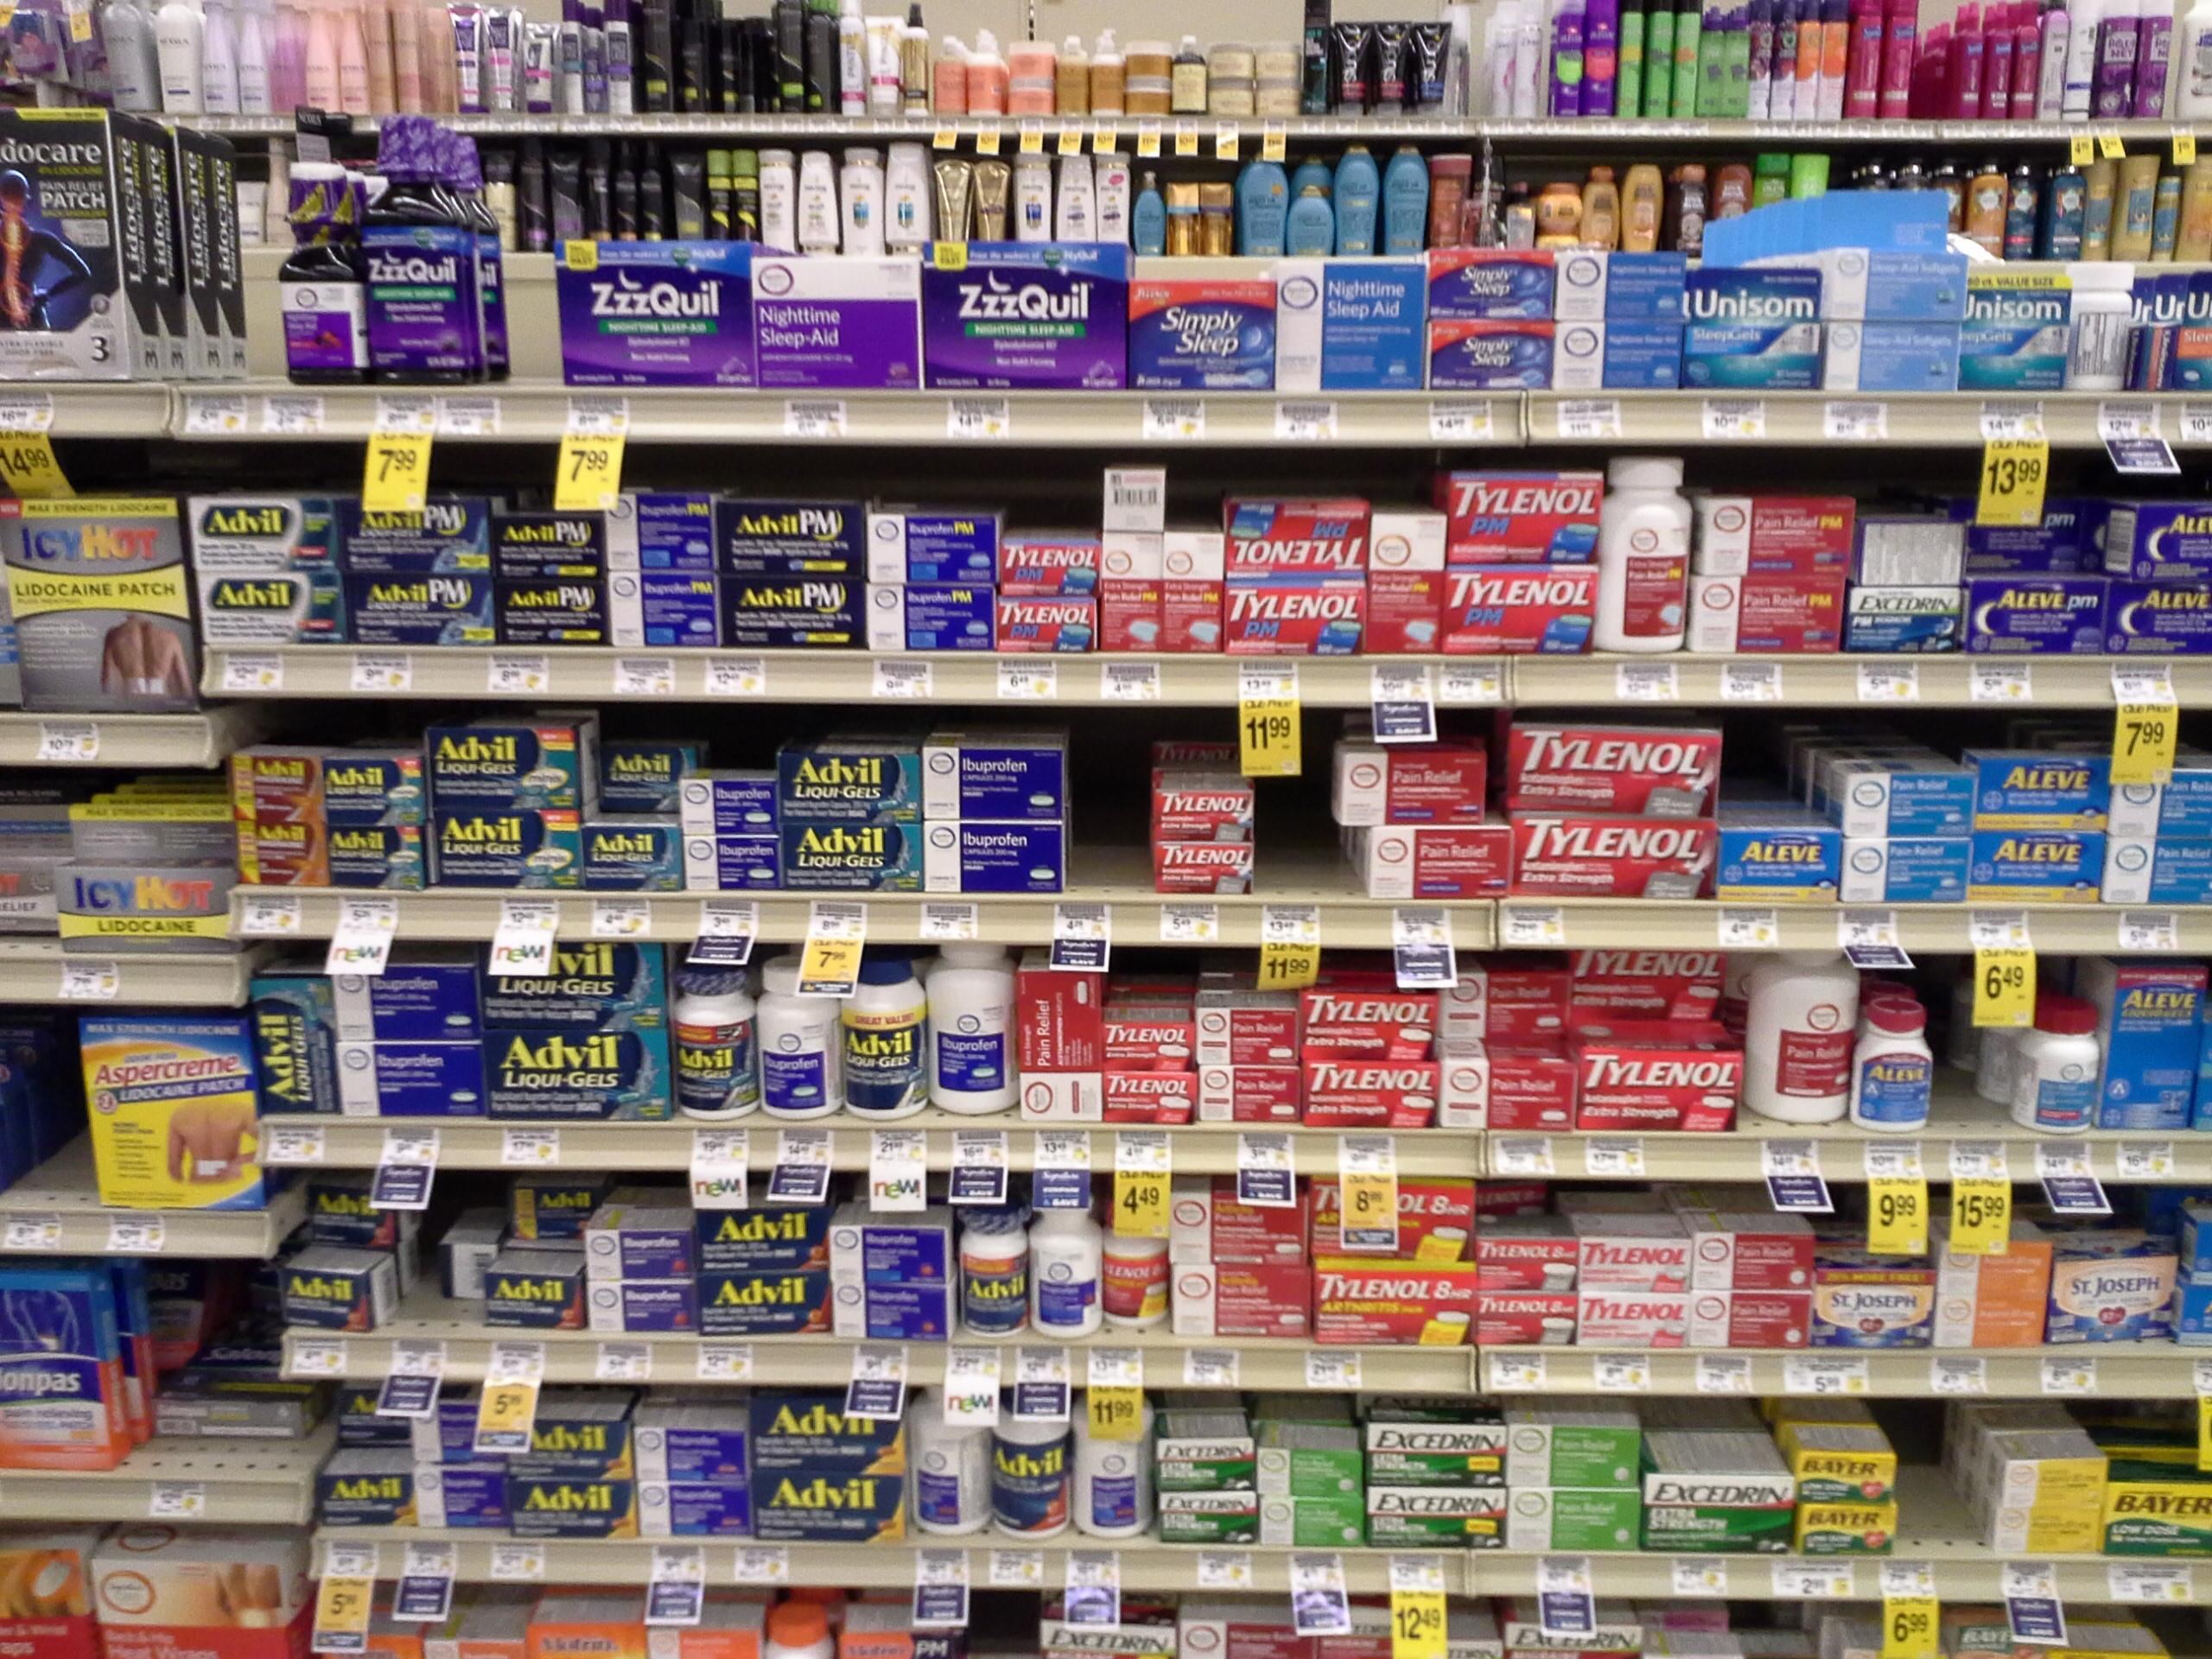empty: (0, 1040, 91, 1204), (1069, 741, 1157, 896), (1904, 1410, 1973, 1547), (1256, 786, 1339, 892), (1930, 999, 1996, 1127)
